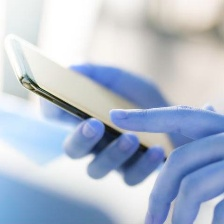phone: (3, 30, 186, 168)
